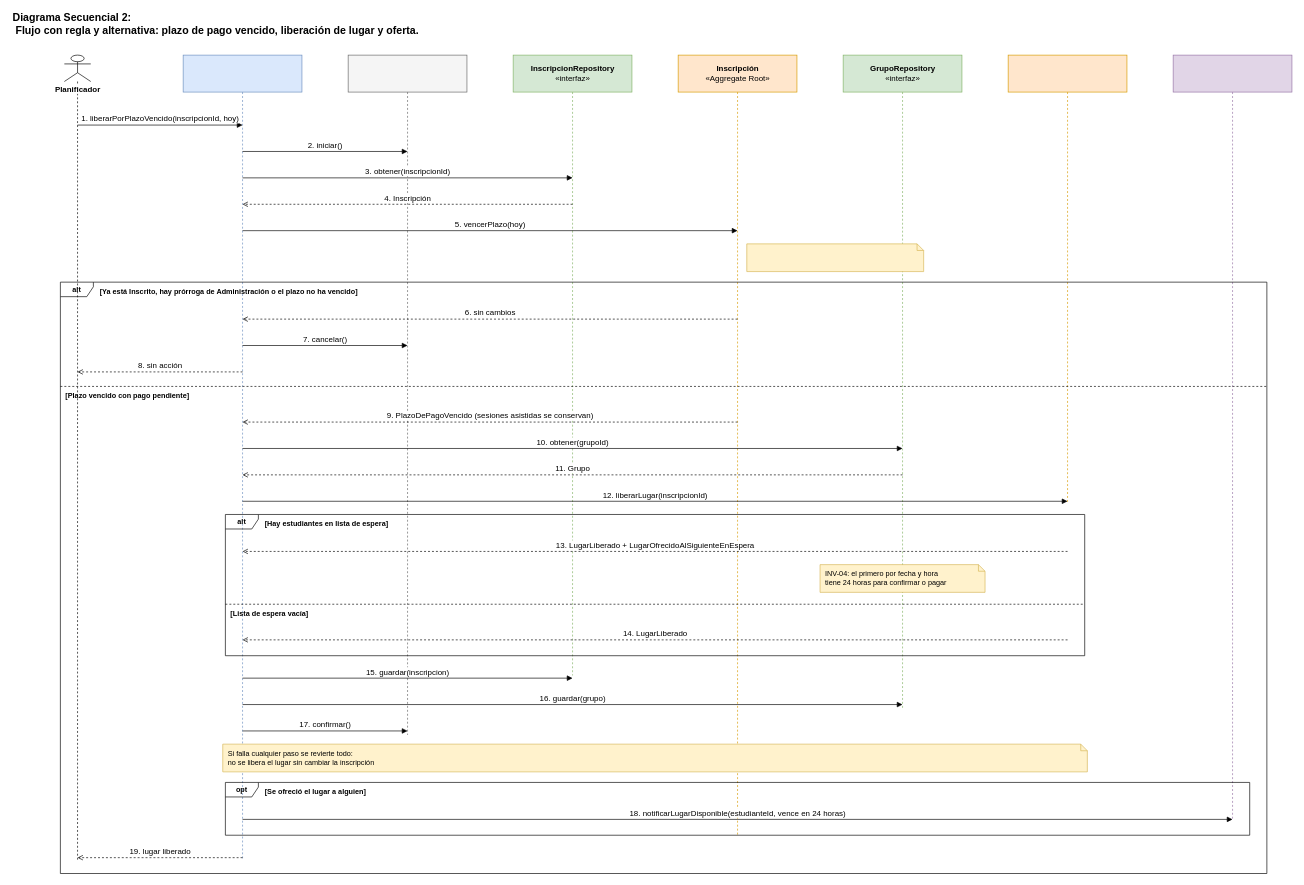
Some shapes in this 1304 by 885 pixel diagram are drawn without their labels. The box of each missing label's shape, as (x1, y1, x2, y2) in pixels:
Grupo «Aggregate Root»: (1007, 54, 1127, 504)
InscripcionService «Application Service»: (182, 54, 302, 860)
INV-09: 7 días naturales desde el inicio del curso sin Pago Acreditado: (746, 243, 924, 272)
NotificacionGateway «puerto externo»: (1172, 54, 1292, 821)
UnitOfWork «infraestructura»: (347, 54, 467, 735)
